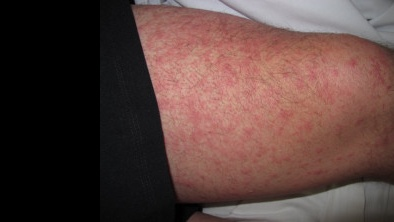SJS-TEN: (128, 3, 394, 209)
